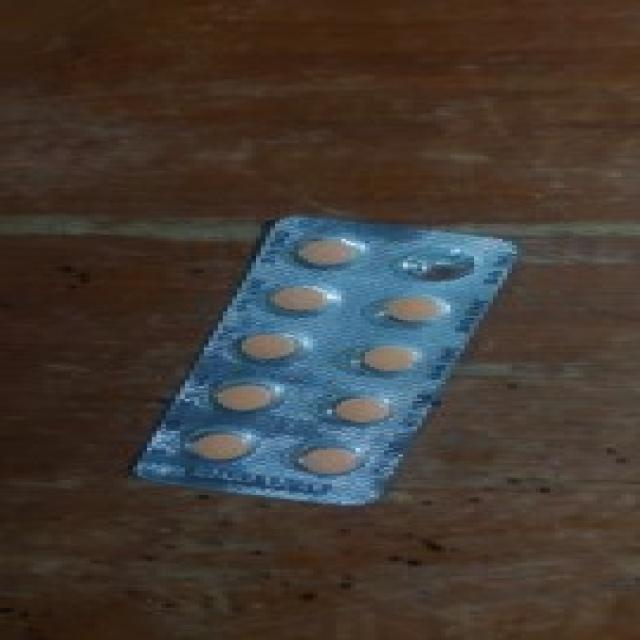Cacat: (129, 212, 524, 509)
Kemasan: (391, 239, 484, 288)
